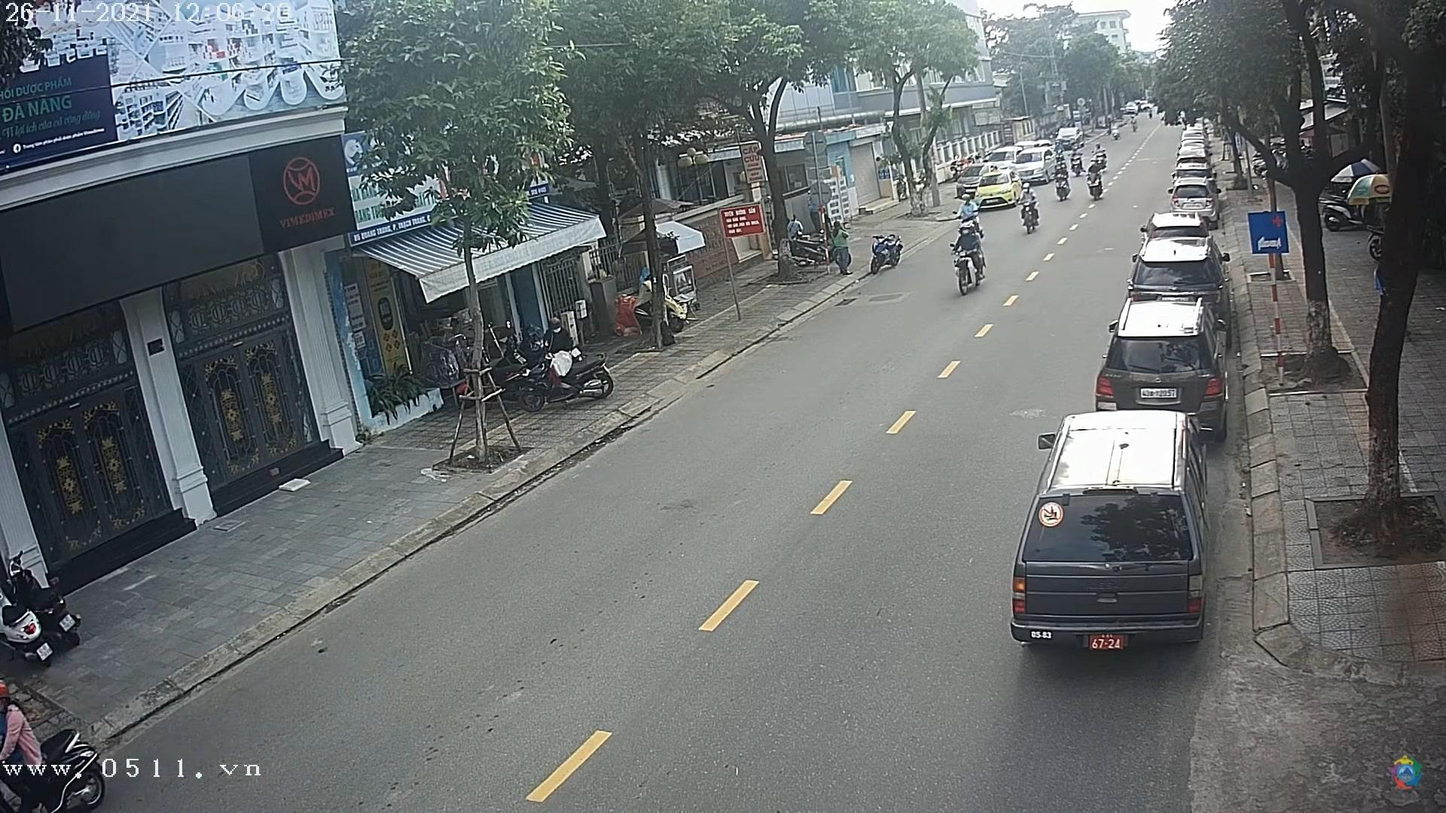car: (1014, 414, 1208, 646), (1094, 302, 1229, 421), (1129, 239, 1230, 300), (1143, 212, 1208, 242), (1170, 181, 1217, 214)
motorbike: (953, 247, 991, 298), (1019, 203, 1043, 241)
